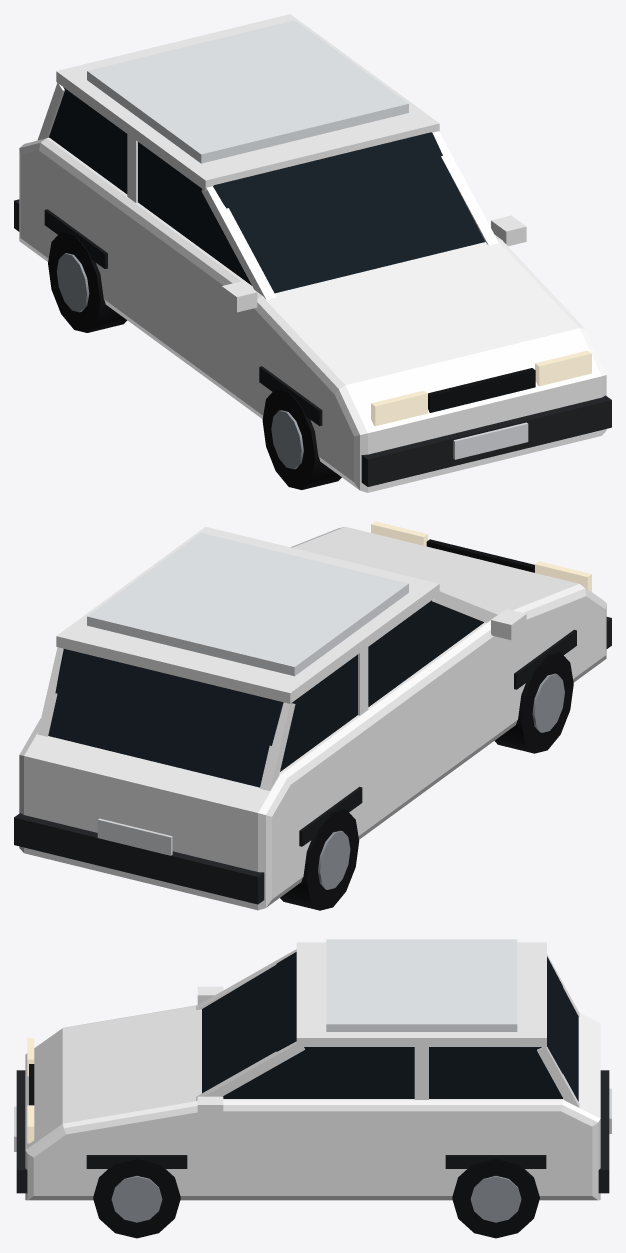
The model's file is hatch.glb.
3 renders of one model, top to bottom at view 1: azimuth 30°, elevation 25°; view 2: azimuth 150°, elevation 25°; view 3: azimuth 270°, elevation 25°, orthographic. The views are drawn at different scales.
Visible parts, largest first — view 1: paint, trim, lights; view 2: paint, trim, lights; view 3: paint, trim, lights.
Boxes of the visible parts, left/top/right/bottom form: paint: left=19, top=14, right=606, bottom=492; trim: left=14, top=20, right=611, bottom=489; lights: left=371, top=350, right=591, bottom=426; paint: left=19, top=526, right=606, bottom=910; trim: left=14, top=533, right=611, bottom=910; lights: left=371, top=521, right=591, bottom=591; paint: left=25, top=942, right=600, bottom=1200; trim: left=14, top=939, right=611, bottom=1238; lights: left=27, top=1038, right=34, bottom=1143.
Bounding box in the file's own units: 1.98 × 1.59 × 4.23.
